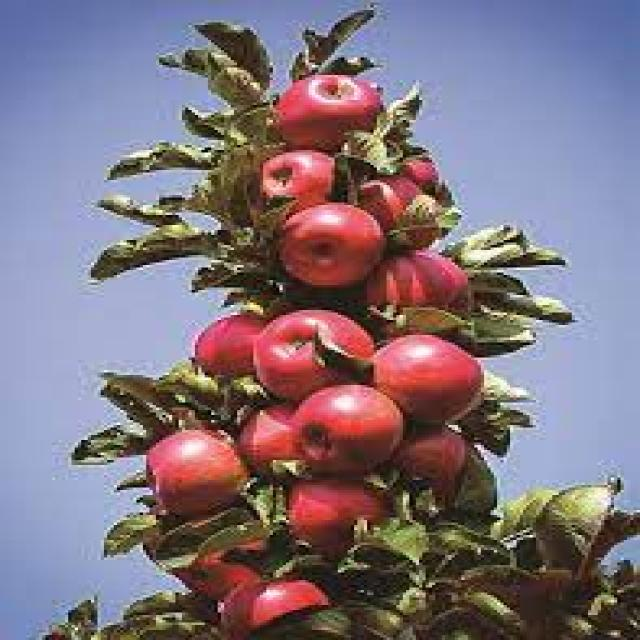100-_ripeness: (256, 304, 374, 396), (295, 388, 402, 478), (390, 333, 486, 429), (144, 431, 248, 519), (269, 202, 380, 282), (272, 70, 379, 150), (372, 257, 473, 324), (287, 483, 390, 546), (222, 577, 328, 627), (368, 175, 436, 249), (192, 307, 256, 374), (252, 153, 336, 204), (243, 404, 292, 467)
